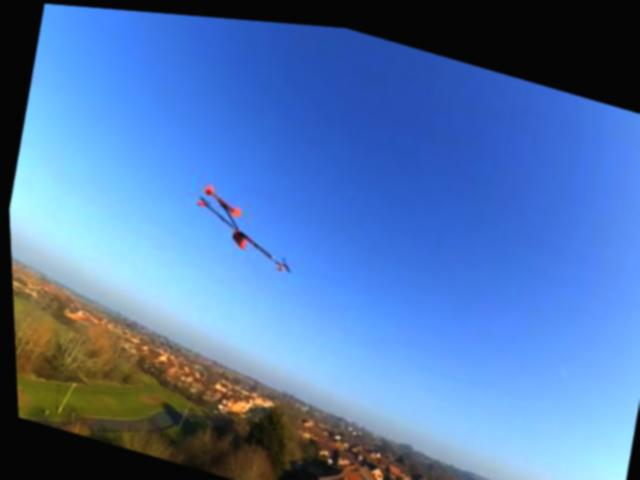uav: (172, 169, 306, 282)
